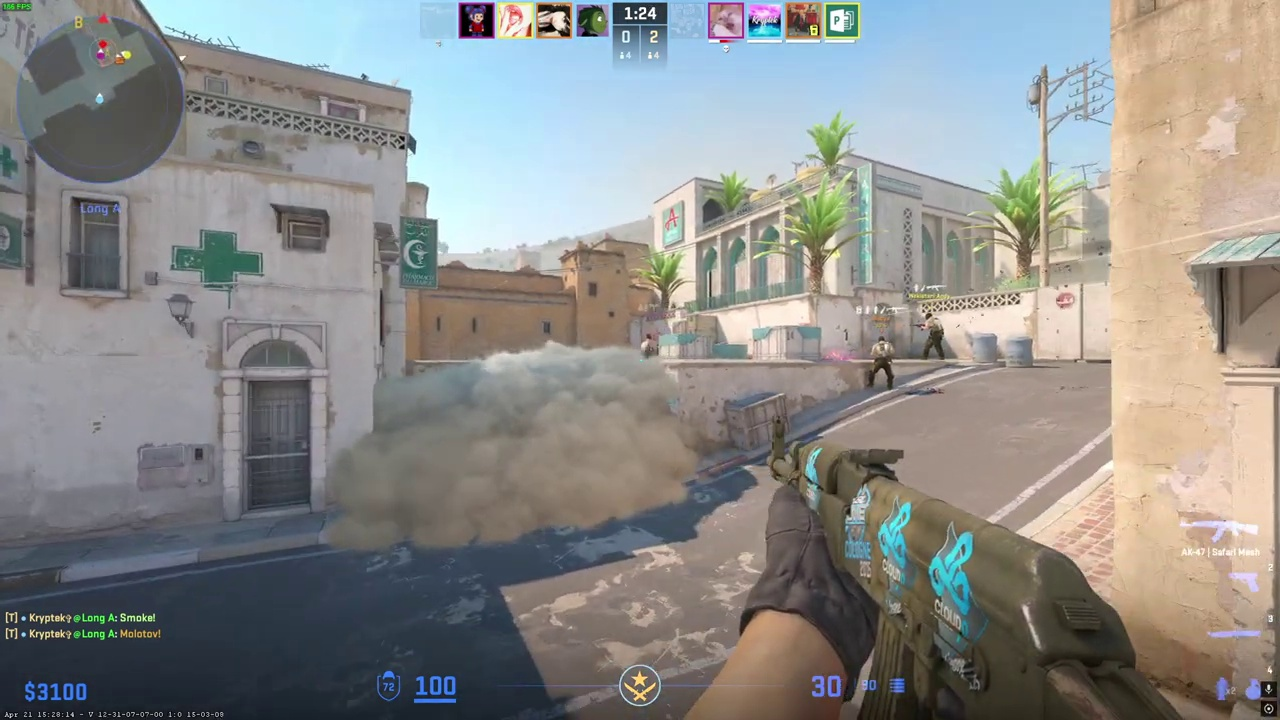Terrorist: (867, 336, 895, 390), (921, 313, 945, 360), (640, 333, 657, 360)
